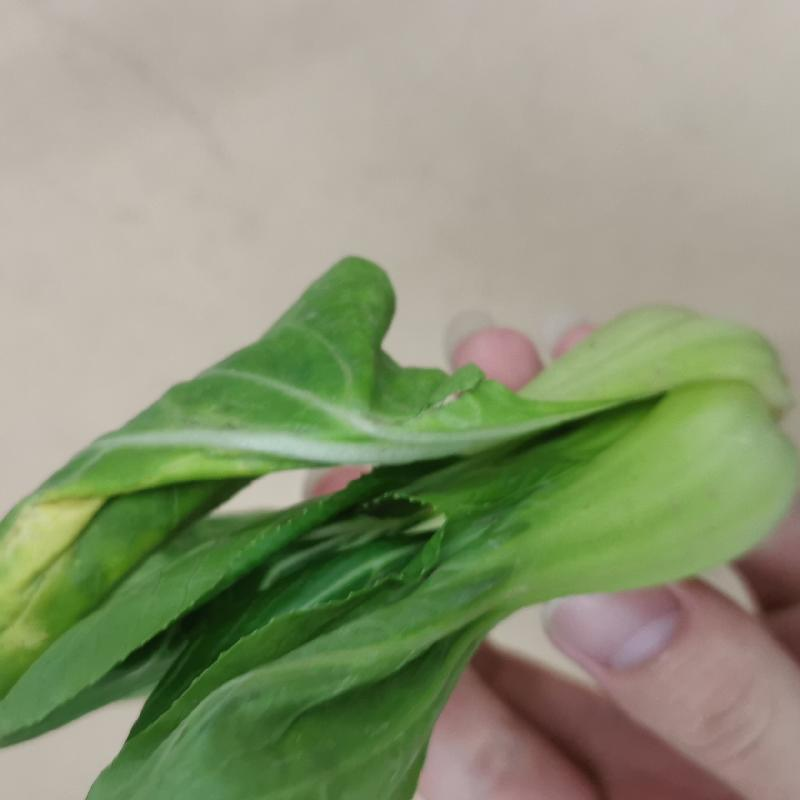green vegatable: (3, 263, 782, 800)
